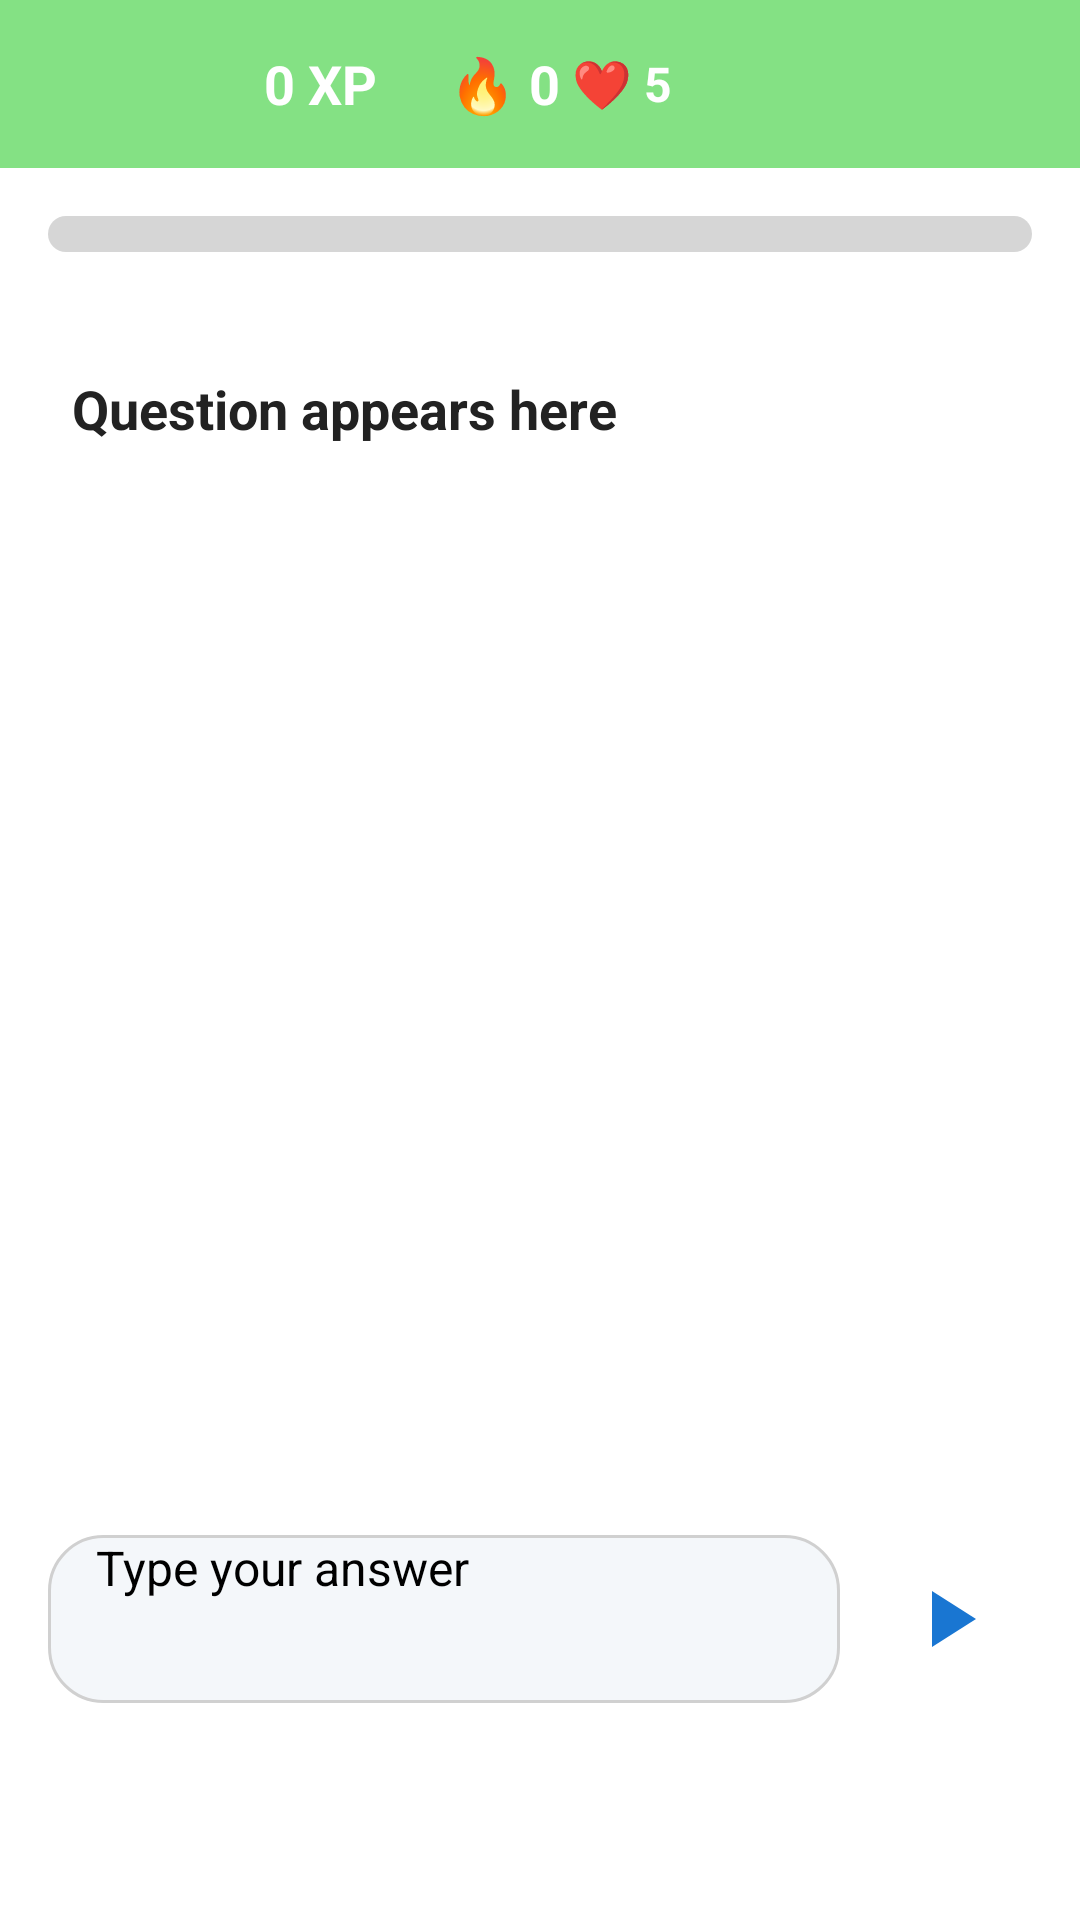

Screen size 1080×1920. Icon name, then its center in pixels as (x=x, y=y):
Run: (x=954, y=1619)
